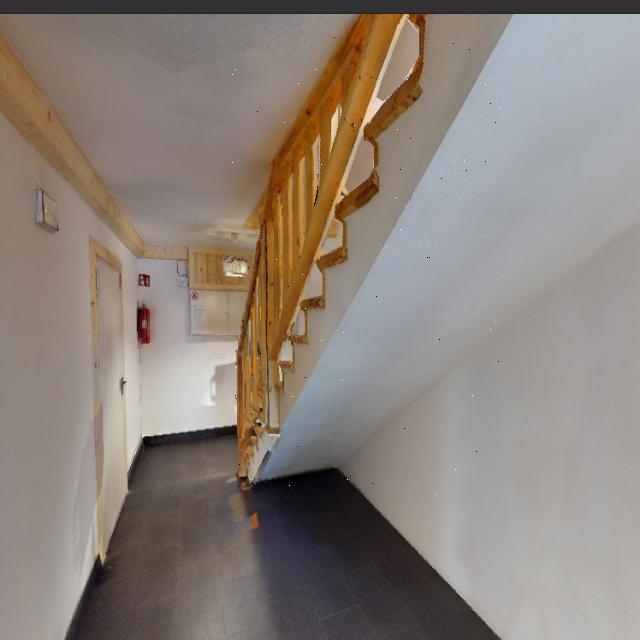stairs: (230, 24, 501, 511)
